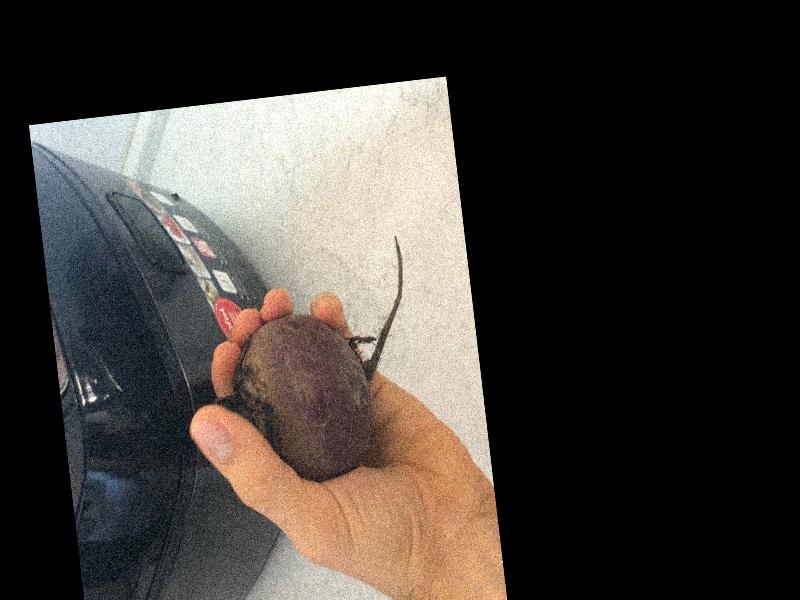Beet: (200, 235, 426, 491)
